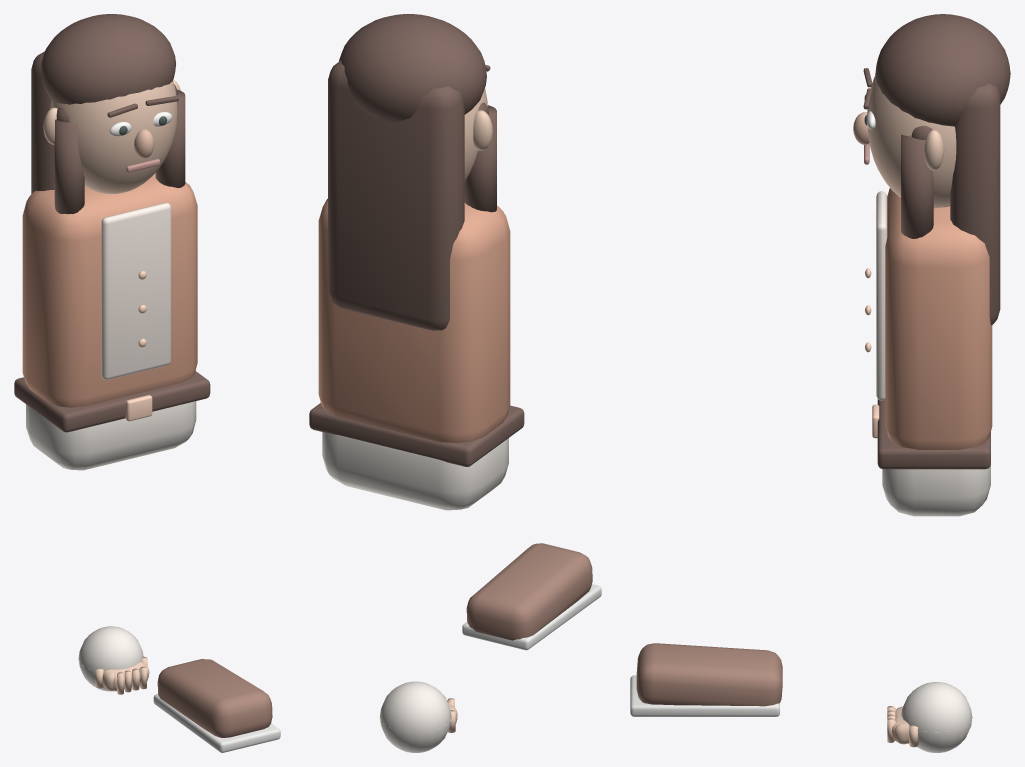
3 renders of one model, left to right at view 1: azimuth 30°, elevation 25°; view 2: azimuth 150°, elevation 25°; view 3: azimuth 270°, elevation 25°, orthographic. The views are drawn at different scales.
Visible parts, largest first — view 1: Torso, ShirtFront, HairCap, HeadMesh, Pelvis, ShoeL, Belt, ThighL_cap_a, LongLock_-1, LongHairBack, SoleL, LongLock_1 (+2 smaller); view 2: LongHairBack, Torso, HairCap, Pelvis, ShoeL, Belt, ThighL_cap_a, LongLock_-1, SoleL, HeadMesh, ThighL_cap_b, EarL; view 3: Torso, HairCap, ShoeL, LongHairBack, Pelvis, HeadMesh, ThighL_cap_a, Belt, LongLock_1, ShirtFront, SoleL, ThighL_cap_b (+1 smaller).
Boxes of the visible parts, box(x1,y1,x2,y2) form: Torso: box(22, 173, 197, 407); ShirtFront: box(101, 203, 171, 379); HairCap: box(41, 14, 175, 104); HeadMesh: box(50, 81, 177, 193); Pelvis: box(26, 401, 196, 470); ShoeL: box(157, 659, 272, 737); Belt: box(14, 371, 210, 432); ThighL_cap_a: box(78, 626, 143, 691); LongLock_-1: box(54, 119, 84, 214); LongHairBack: box(31, 51, 54, 193); SoleL: box(153, 694, 280, 752); LongLock_1: box(155, 90, 185, 187); LongHairBack: box(328, 60, 464, 330); Torso: box(318, 198, 510, 443); HairCap: box(339, 14, 486, 122); Pelvis: box(322, 432, 508, 510); ShoeL: box(466, 543, 592, 640); Belt: box(309, 403, 524, 466); ThighL_cap_a: box(379, 681, 451, 752); LongLock_-1: box(464, 105, 496, 212); SoleL: box(462, 584, 601, 650); HeadMesh: box(464, 88, 487, 181); ThighL_cap_b: box(381, 686, 441, 752); EarL: box(473, 110, 492, 150); Torso: box(885, 188, 992, 449); HairCap: box(875, 14, 1010, 126); ShoeL: box(636, 643, 782, 706); LongHairBack: box(950, 83, 1000, 324); Pelvis: box(882, 465, 990, 516); HeadMesh: box(867, 75, 956, 208); ThighL_cap_a: box(901, 682, 972, 752); Belt: box(877, 399, 990, 469); LongLock_1: box(901, 134, 933, 238); ShirtFront: box(876, 191, 887, 400); SoleL: box(630, 675, 779, 716); ThighL_cap_b: box(902, 686, 971, 751).
Size of the model in its own units: 0.4128 by 1.77 by 0.838.
